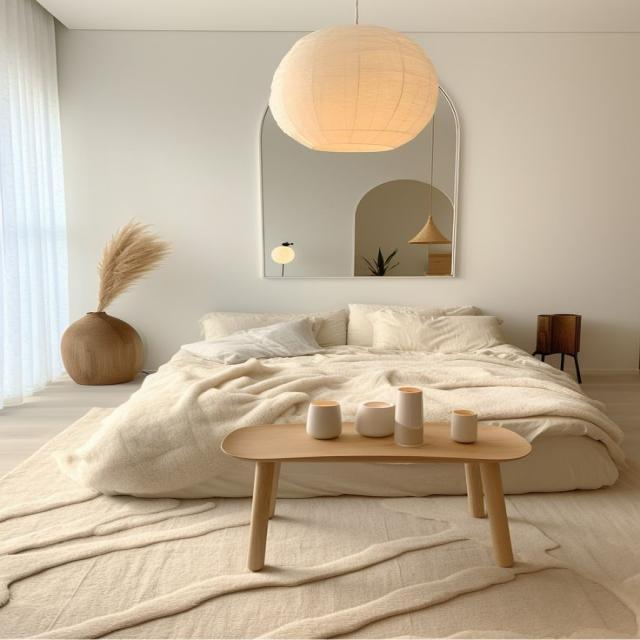obstacle: (60, 302, 624, 500), (219, 419, 532, 572)
